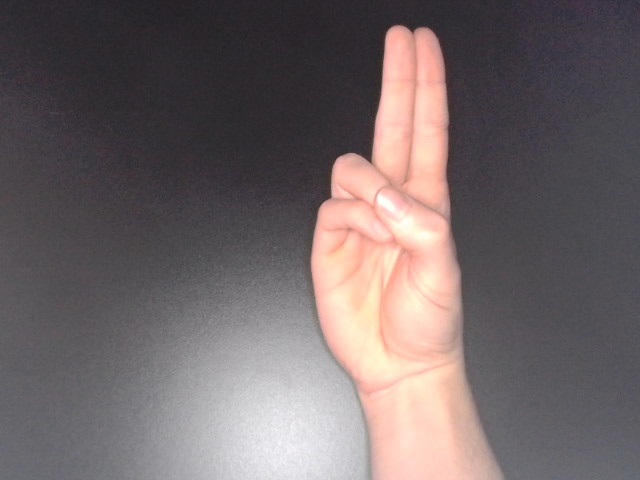r: (303, 20, 471, 418)
